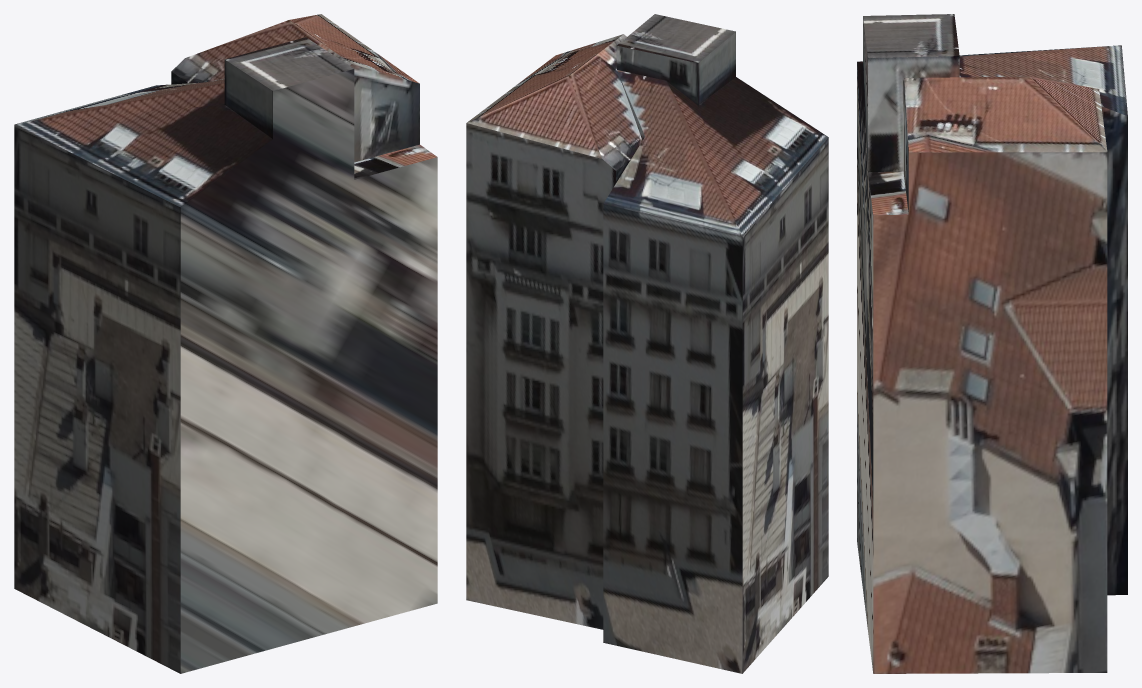
3 views of the same model, side by side, from view 1: azimuth 30°, elevation 25°; view 2: azimuth 150°, elevation 25°; view 3: azimuth 270°, elevation 25° (orthographic). The views are drawn at different scales.
Visible parts, largest first — view 1: Z_UP; view 2: Z_UP; view 3: Z_UP.
Boxes of the visible parts, bbox=[...] form: Z_UP: bbox=[14, 14, 437, 673]; Z_UP: bbox=[466, 14, 828, 673]; Z_UP: bbox=[857, 14, 1127, 673].
Size of the model in its own units: 15.79 by 27.82 by 11.93.
Materials: 2 (1 with a texture image).
